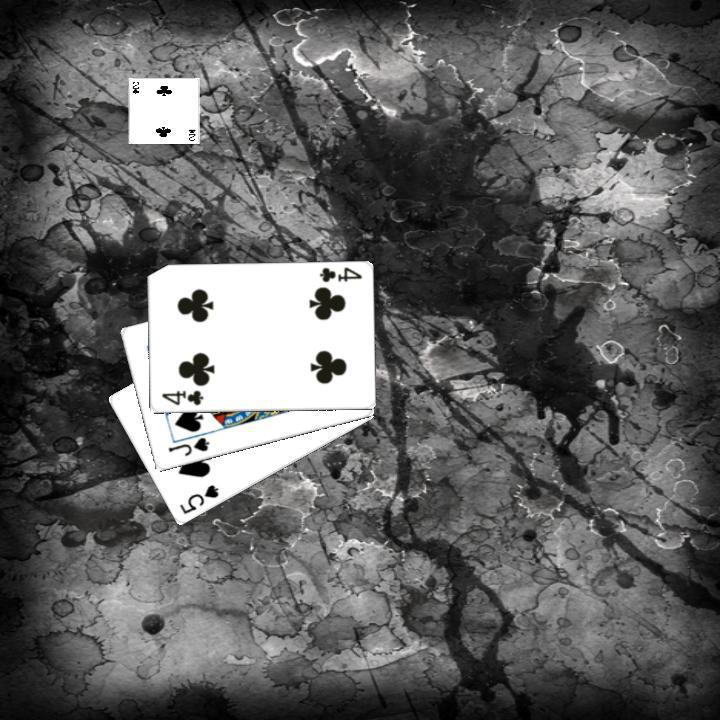4: (315, 263, 364, 285), (157, 386, 205, 408)
5: (175, 481, 221, 517)
J: (164, 433, 211, 459)
